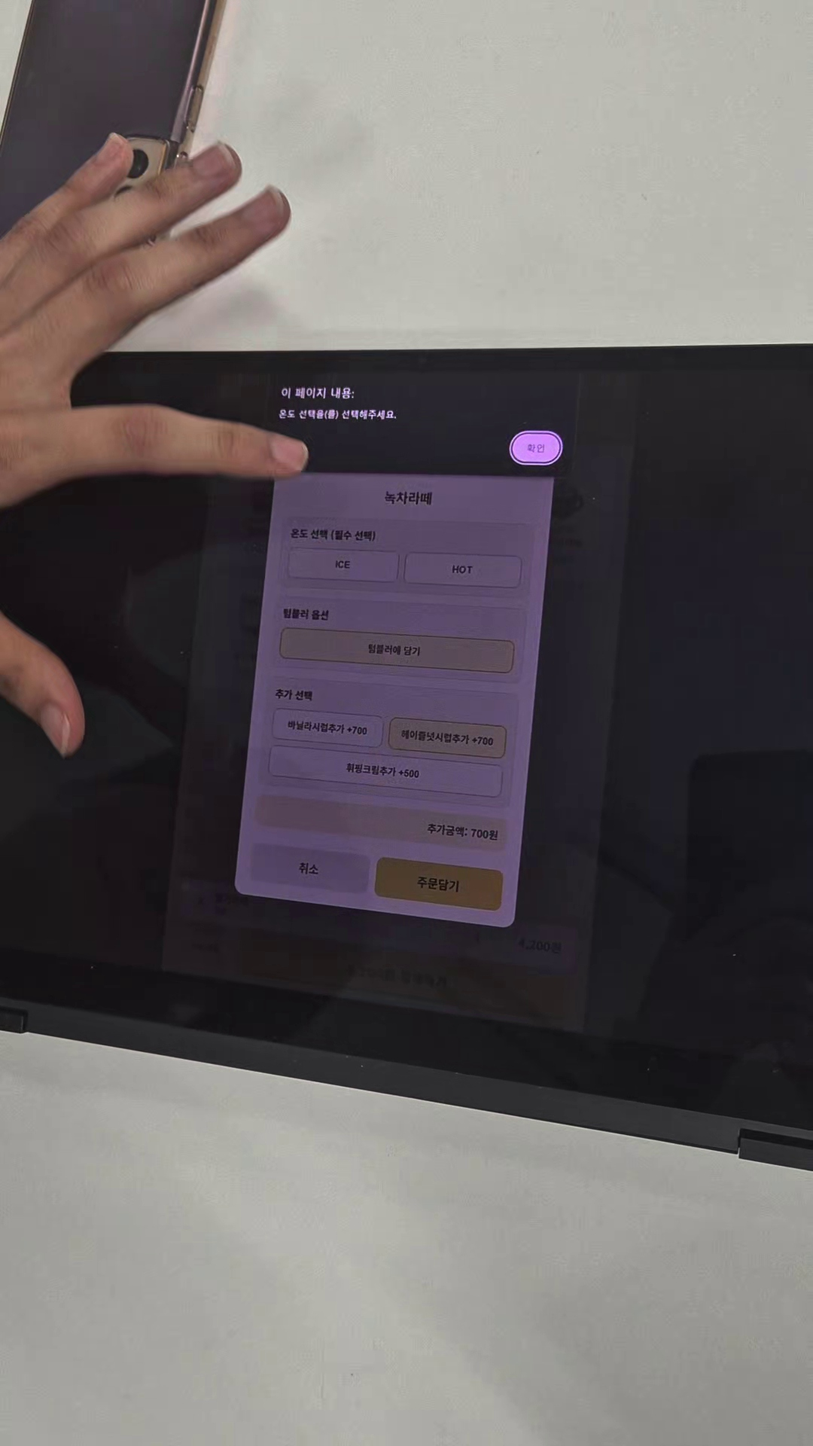action_button: (237, 926, 578, 1011), (375, 856, 504, 911), (250, 843, 370, 893), (176, 919, 232, 959)
menu_name: (380, 488, 434, 508)
option_button: (268, 746, 503, 798), (280, 628, 514, 673), (389, 718, 507, 759), (271, 709, 384, 748), (402, 553, 520, 589), (286, 548, 398, 583)
popup_modal: (234, 461, 553, 930)
